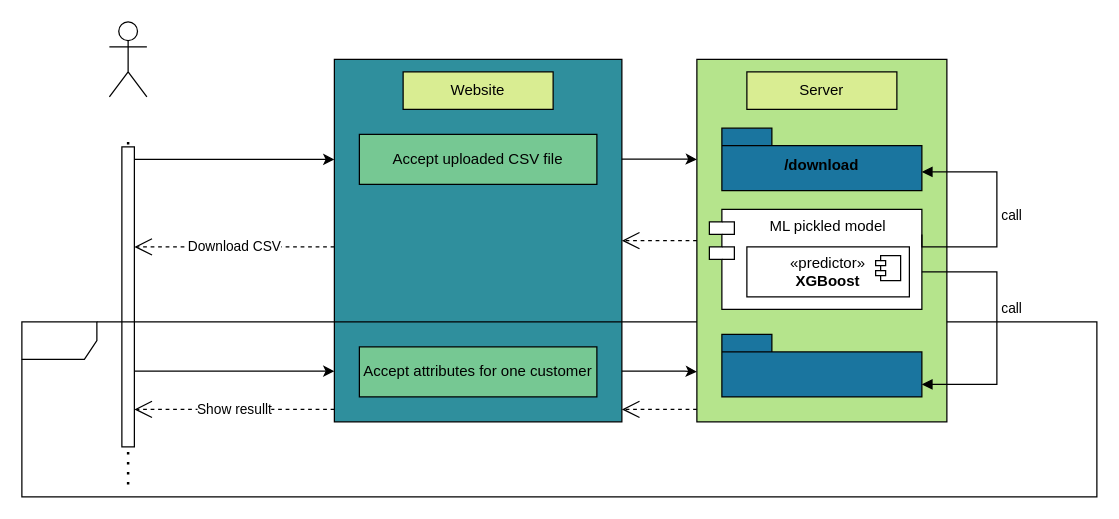
The diagram is 1119 pixels wide and 519 high, and some of its shapes have lost their labels. The centre of each missing label's shape, as x and y in pixels:
/predict: the point at 821,365
alt: the point at 559,409
User: the point at 127,59
